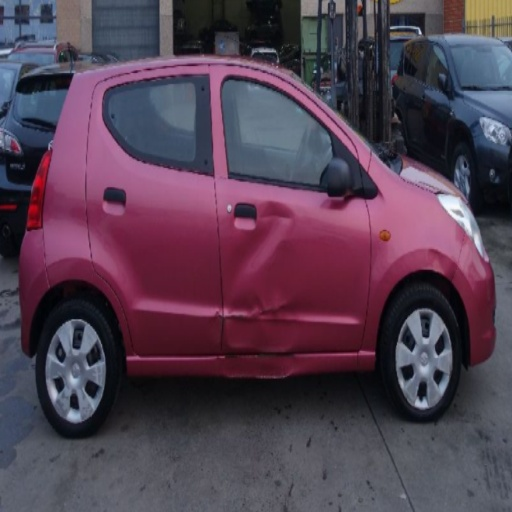dent: (241, 201, 297, 278), (217, 355, 298, 377), (228, 241, 255, 299), (255, 321, 301, 352), (231, 297, 267, 322), (468, 248, 486, 292), (266, 296, 290, 319), (427, 245, 444, 277), (214, 307, 230, 340)
scratch: (317, 228, 350, 239), (231, 372, 291, 378), (261, 301, 287, 312), (221, 311, 246, 318), (236, 352, 259, 358), (217, 352, 227, 359)
